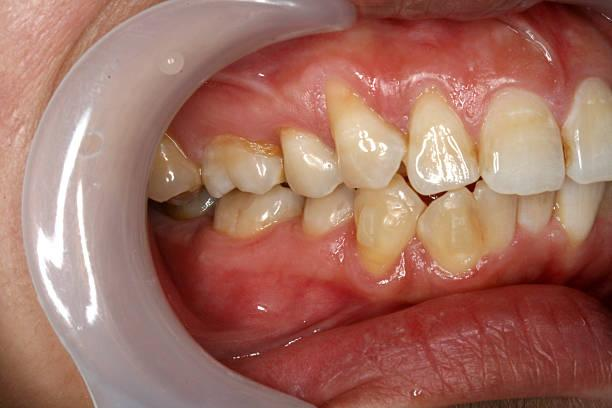Calculus: (349, 181, 427, 276)
Caries: (197, 126, 286, 190), (426, 190, 492, 275), (168, 182, 227, 232)
